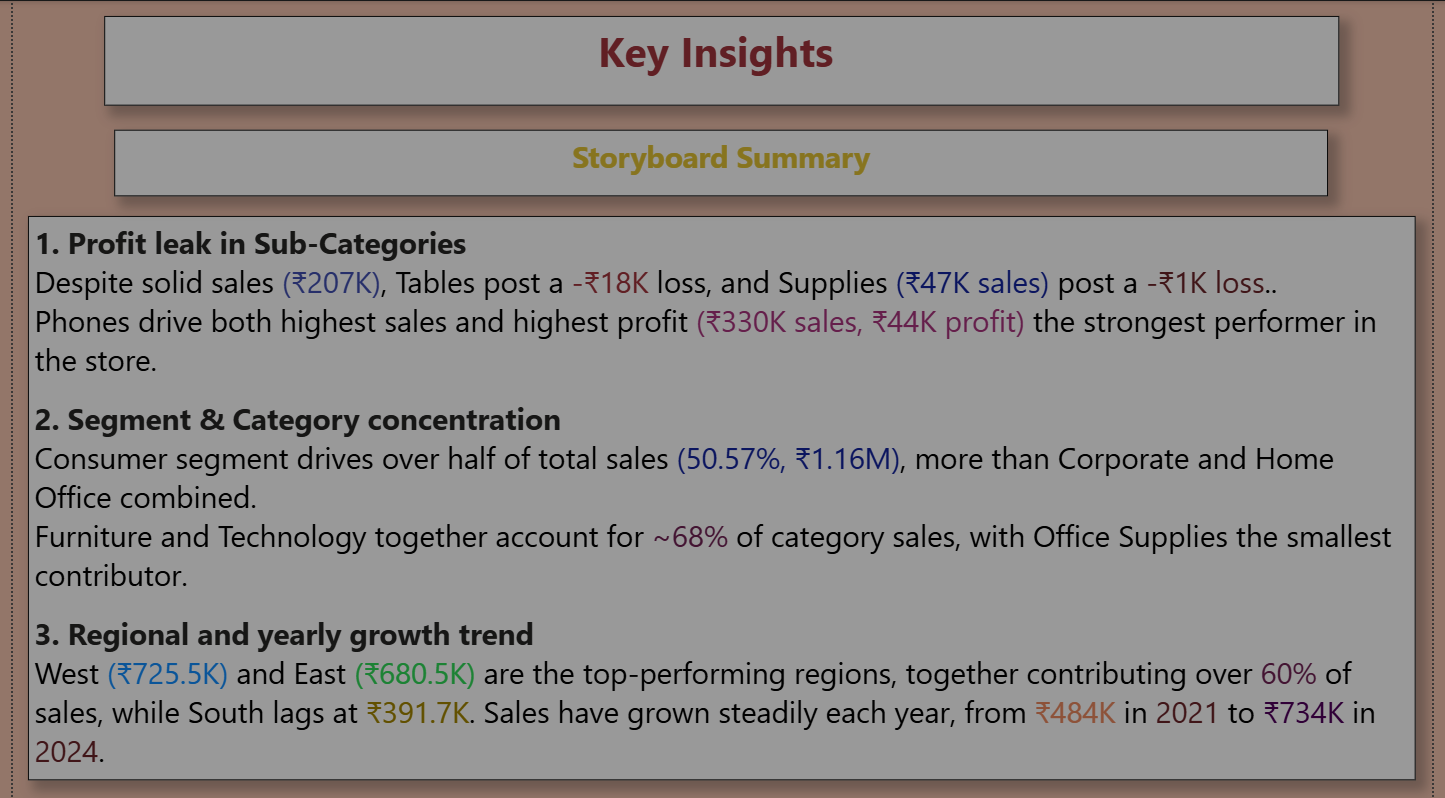

Layout of this report page (visuals, bound fields, positions):
{"tool":"powerbi","page":{"name":"Storyboard","canvas":[1280,720],"ordinal":1},"visuals":[{"type":"textbox","box":[13.7,194.1,1251.4,508.8],"z":0},{"type":"textbox","box":[82.1,13.7,1113.3,80.9],"z":1},{"type":"textbox","box":[90.8,115.7,1094.7,59.7],"z":2}]}

Visuals, with their boxes in screenshot pixels (x1, y1, x2, y2), scaled from the page's 1280x720 canvas onto the 1445x798 screenshot:
textbox: <bbox>15, 215, 1428, 779</bbox>
textbox: <bbox>93, 15, 1349, 105</bbox>
textbox: <bbox>103, 128, 1338, 194</bbox>
